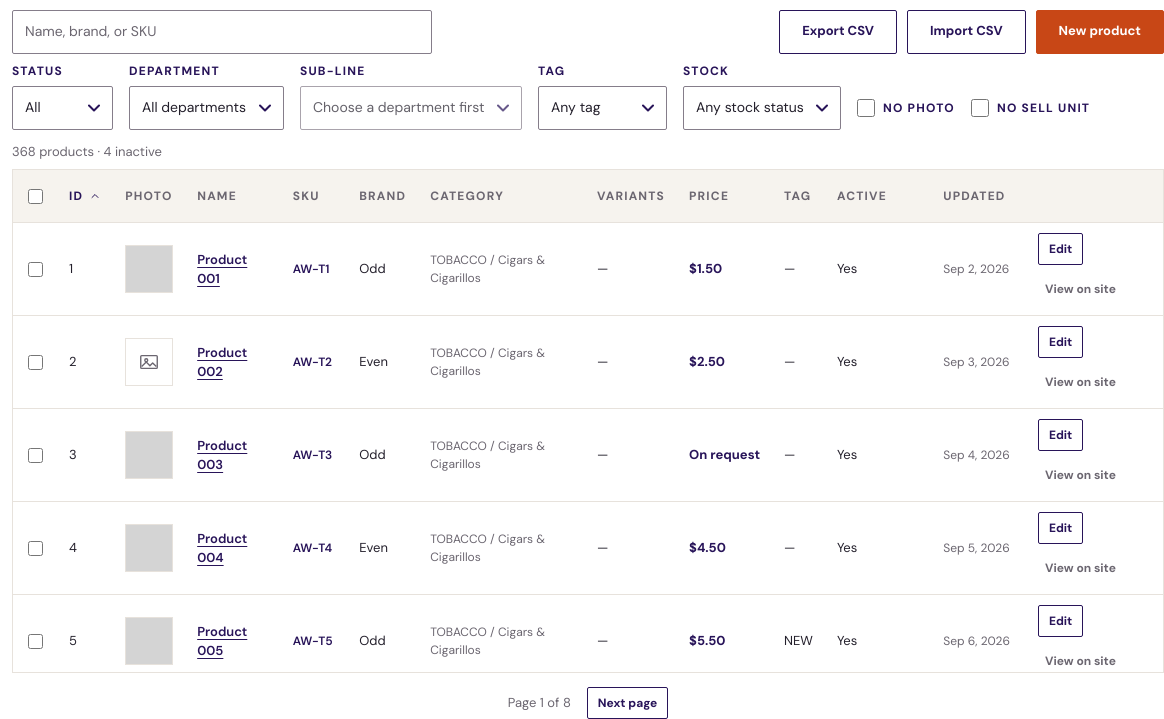
it: the products list: counts and pages (AW-115) › shows 50 rows a page, the count with the inactive ones, and Next
(page scrolled)
Expected: the text "Page 1 of 8" is shown, [508,693,571,713]
Expected: the link "Previous page" is not shown
Click the link "Next page". click: (628, 703)
box: [587,687,668,718]
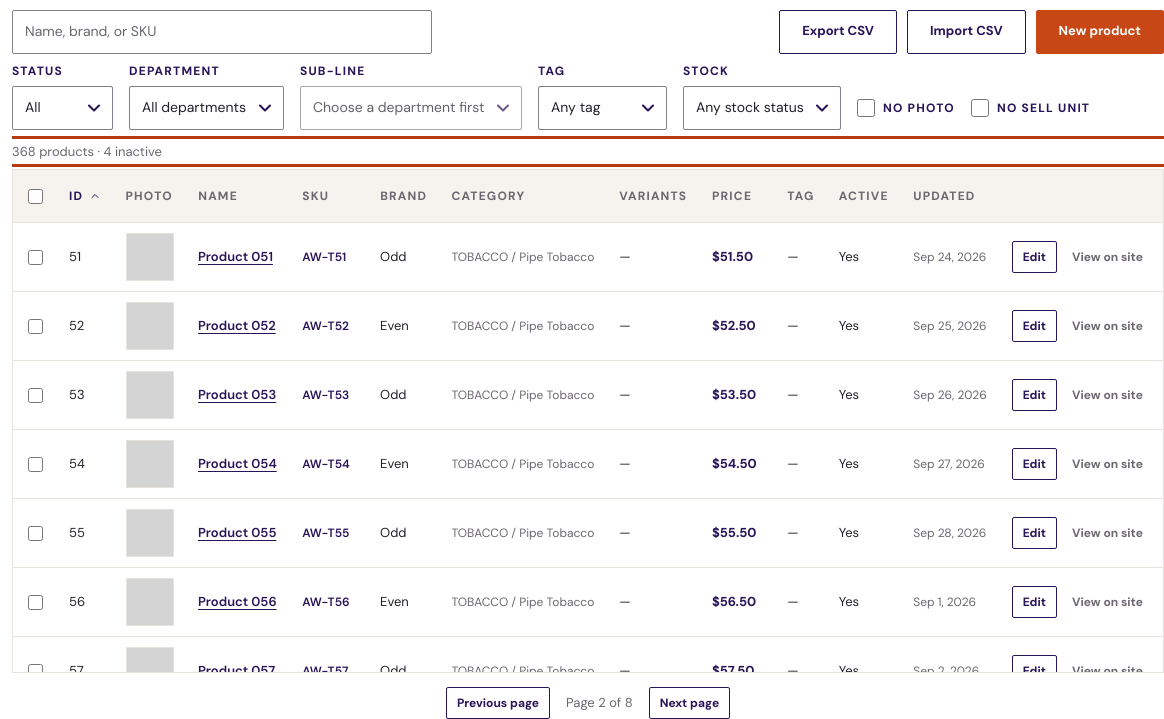
Expected: the text "Page 2 of 8" is shown, [566,693,633,713]
